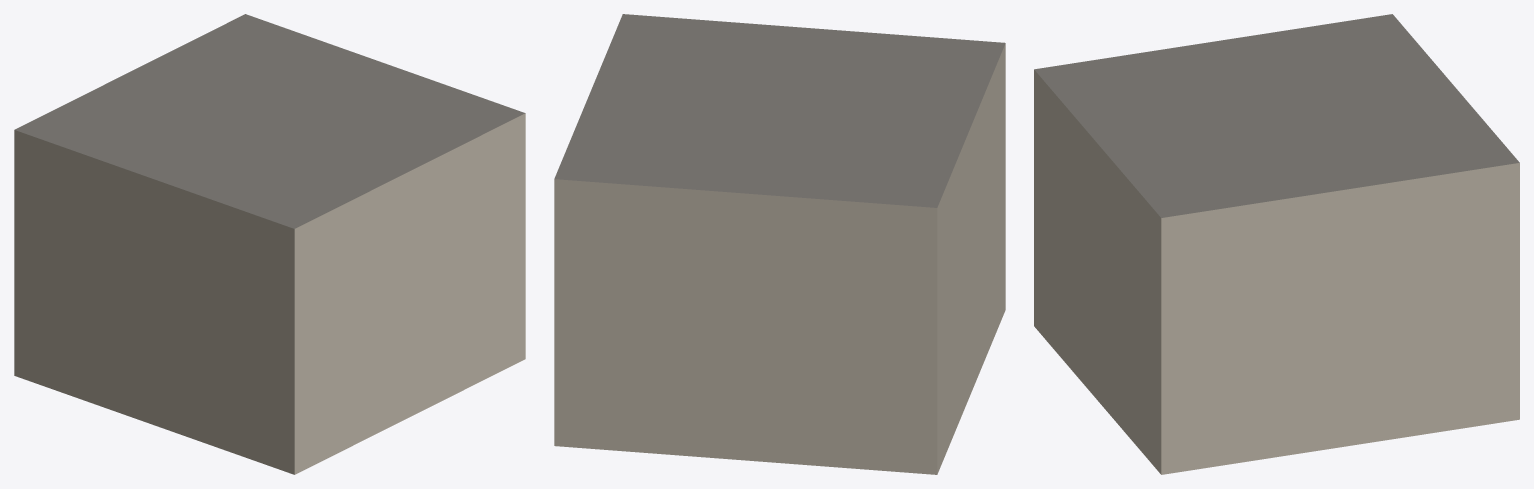
The picture shows the model from 3 angles, left to right: view 1: azimuth 30°, elevation 25°; view 2: azimuth 150°, elevation 25°; view 3: azimuth 270°, elevation 25°; orthographic projection. The views are drawn at different scales.
Parts seen in each view (by area): view 1: HP-w380339983; view 2: HP-w380339983; view 3: HP-w380339983.
Part boxes in pixels (<box>): HP-w380339983: <box>14,14,525,474</box>; HP-w380339983: <box>554,14,1005,474</box>; HP-w380339983: <box>1034,14,1519,474</box>.
Size of the model in its own units: 30.67 by 18 by 30.86.
